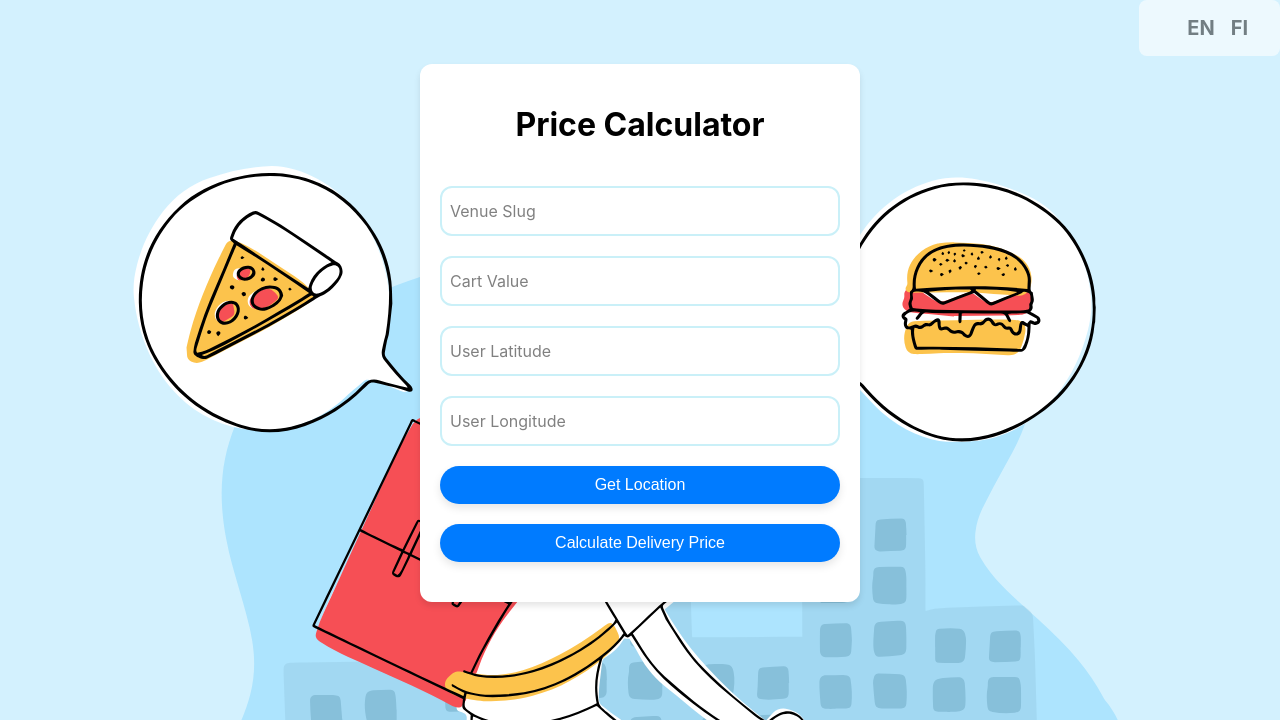
Price Calculation › Delivery distance exceeds maximum range
Note: Fill out the form
Type "home-assignment-venue-helsinki" into the field with test id "venueSlug" at (640, 211), box x1=440 y1=186 x2=840 y2=236
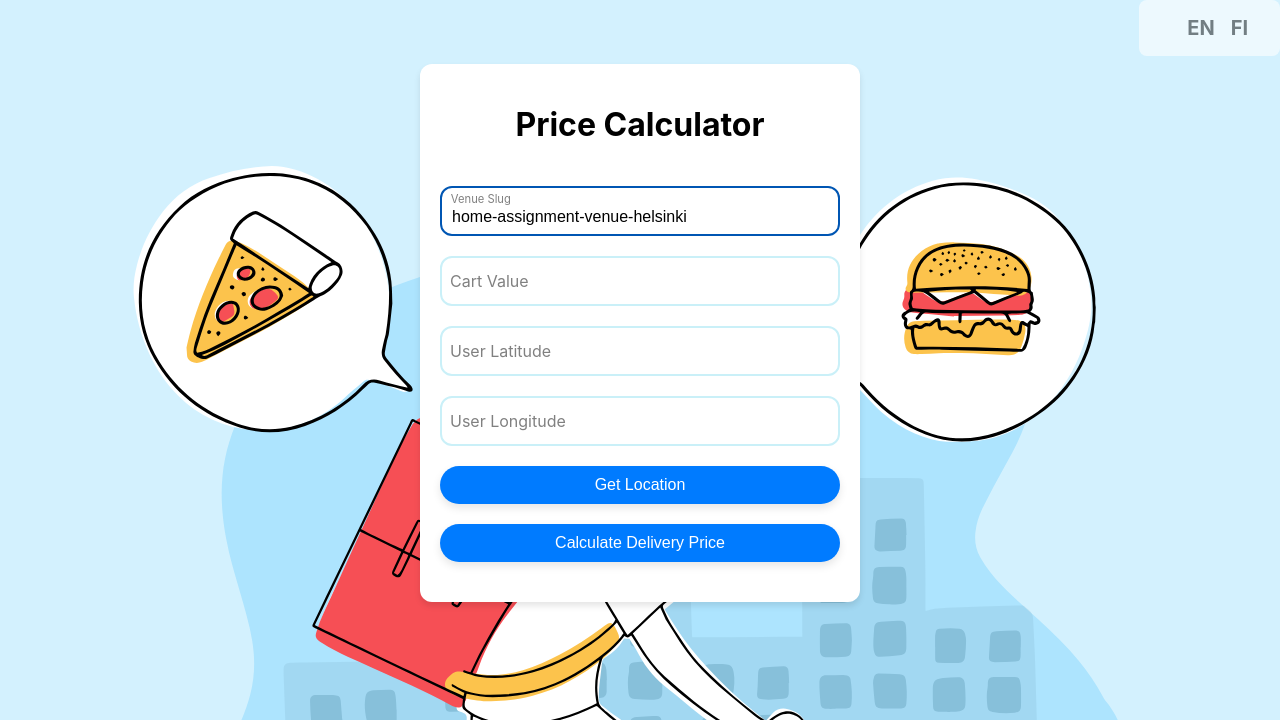
Type "50" into the field with test id "cartValue" at (640, 281), box x1=440 y1=256 x2=840 y2=306
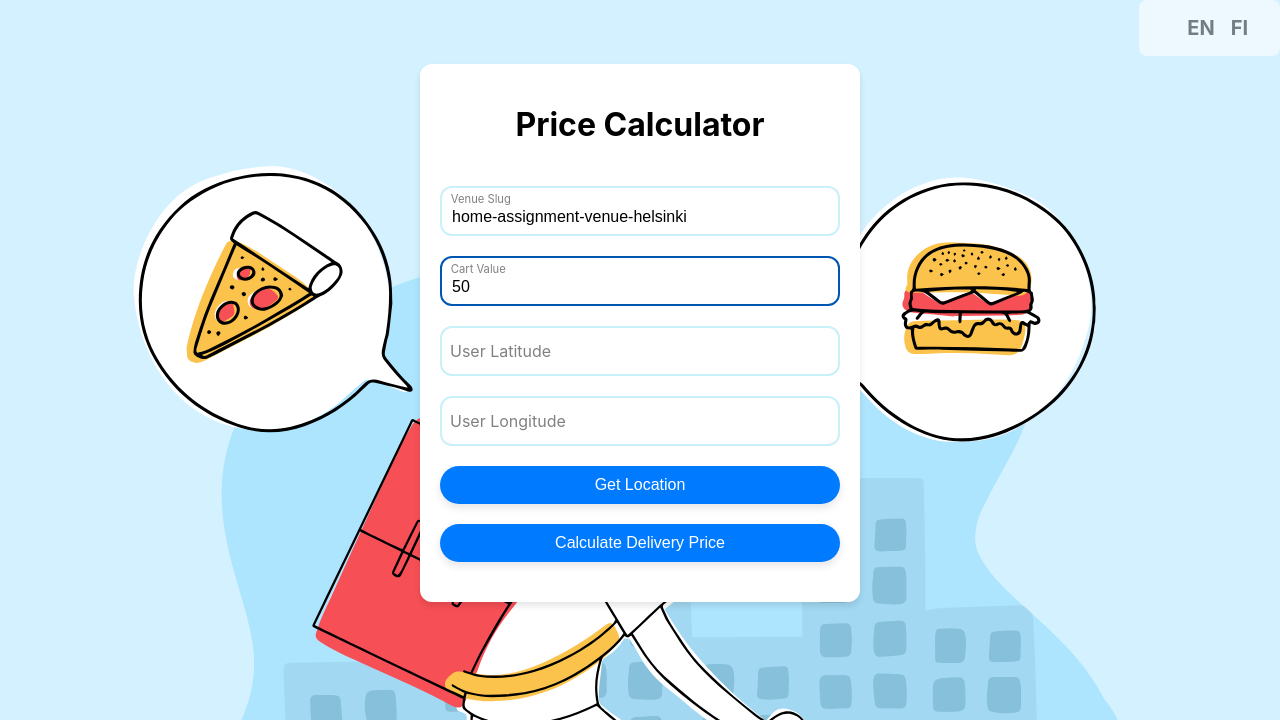
Type "60.17" into the field with test id "userLatitude" at (640, 351), box x1=440 y1=326 x2=840 y2=376
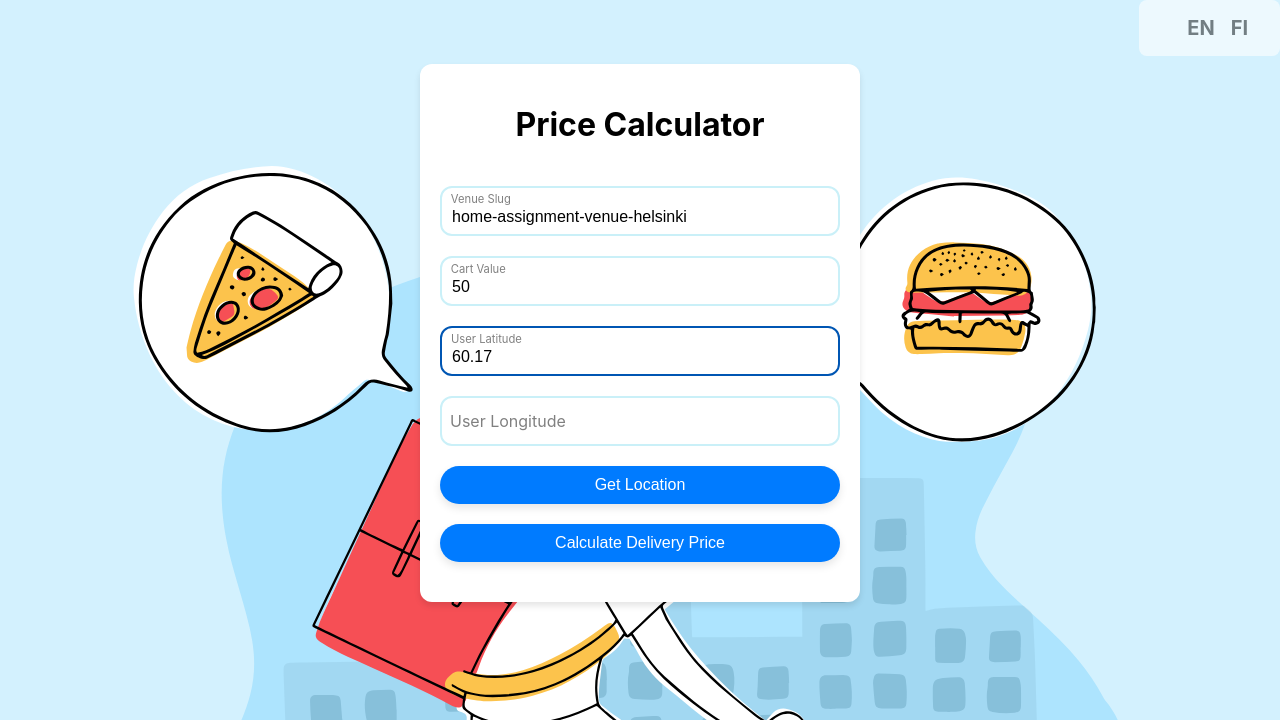
Type "24.9122" into the field with test id "userLongitude" at (640, 421), box x1=440 y1=396 x2=840 y2=446
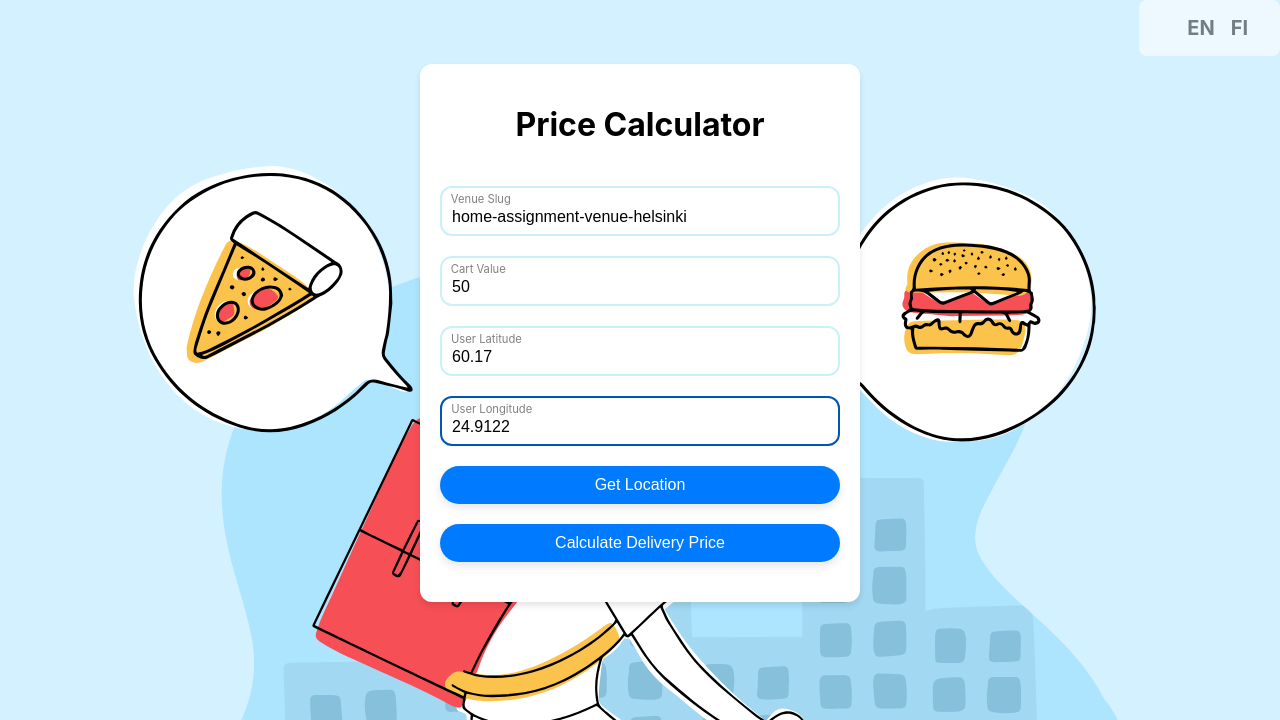
Note: Click the calculate button
Click the button with test id "calculateDeliveryPrice" at (640, 543), box x1=440 y1=524 x2=840 y2=562
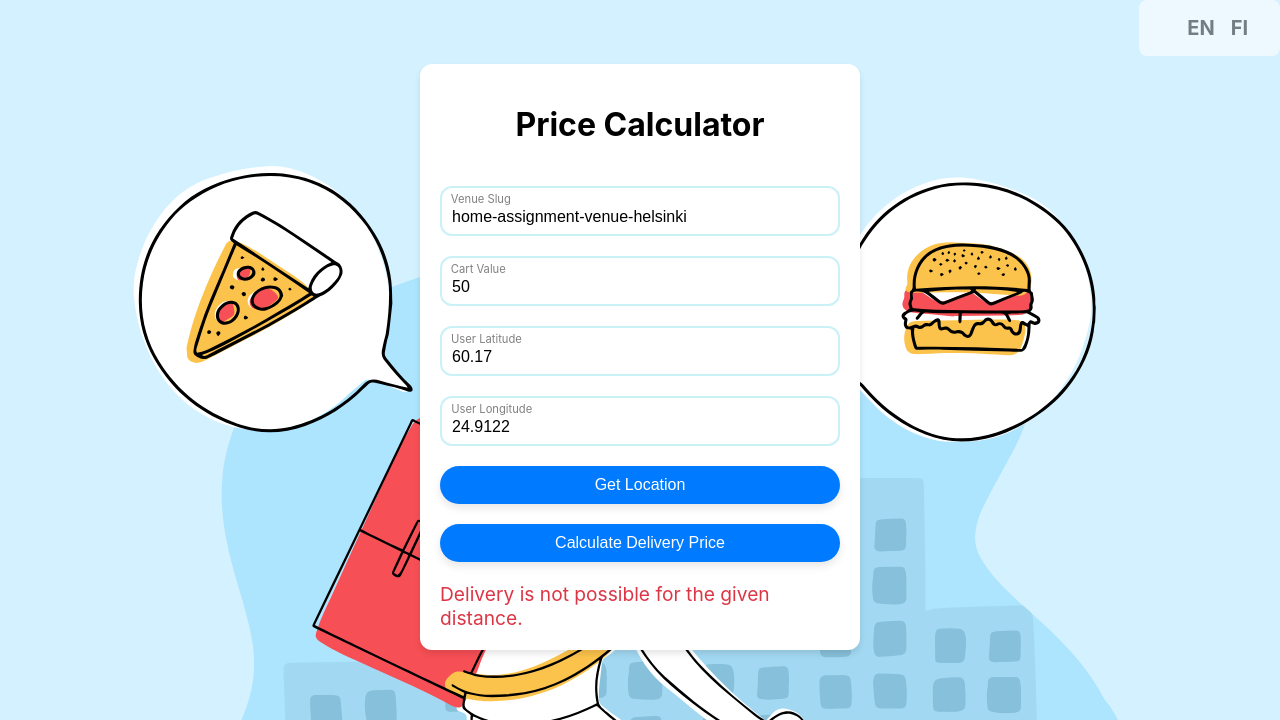
Expected: the text with test id "errorMessage" reads "Delivery is not possible for the given distance.", x1=440 y1=582 x2=770 y2=630
